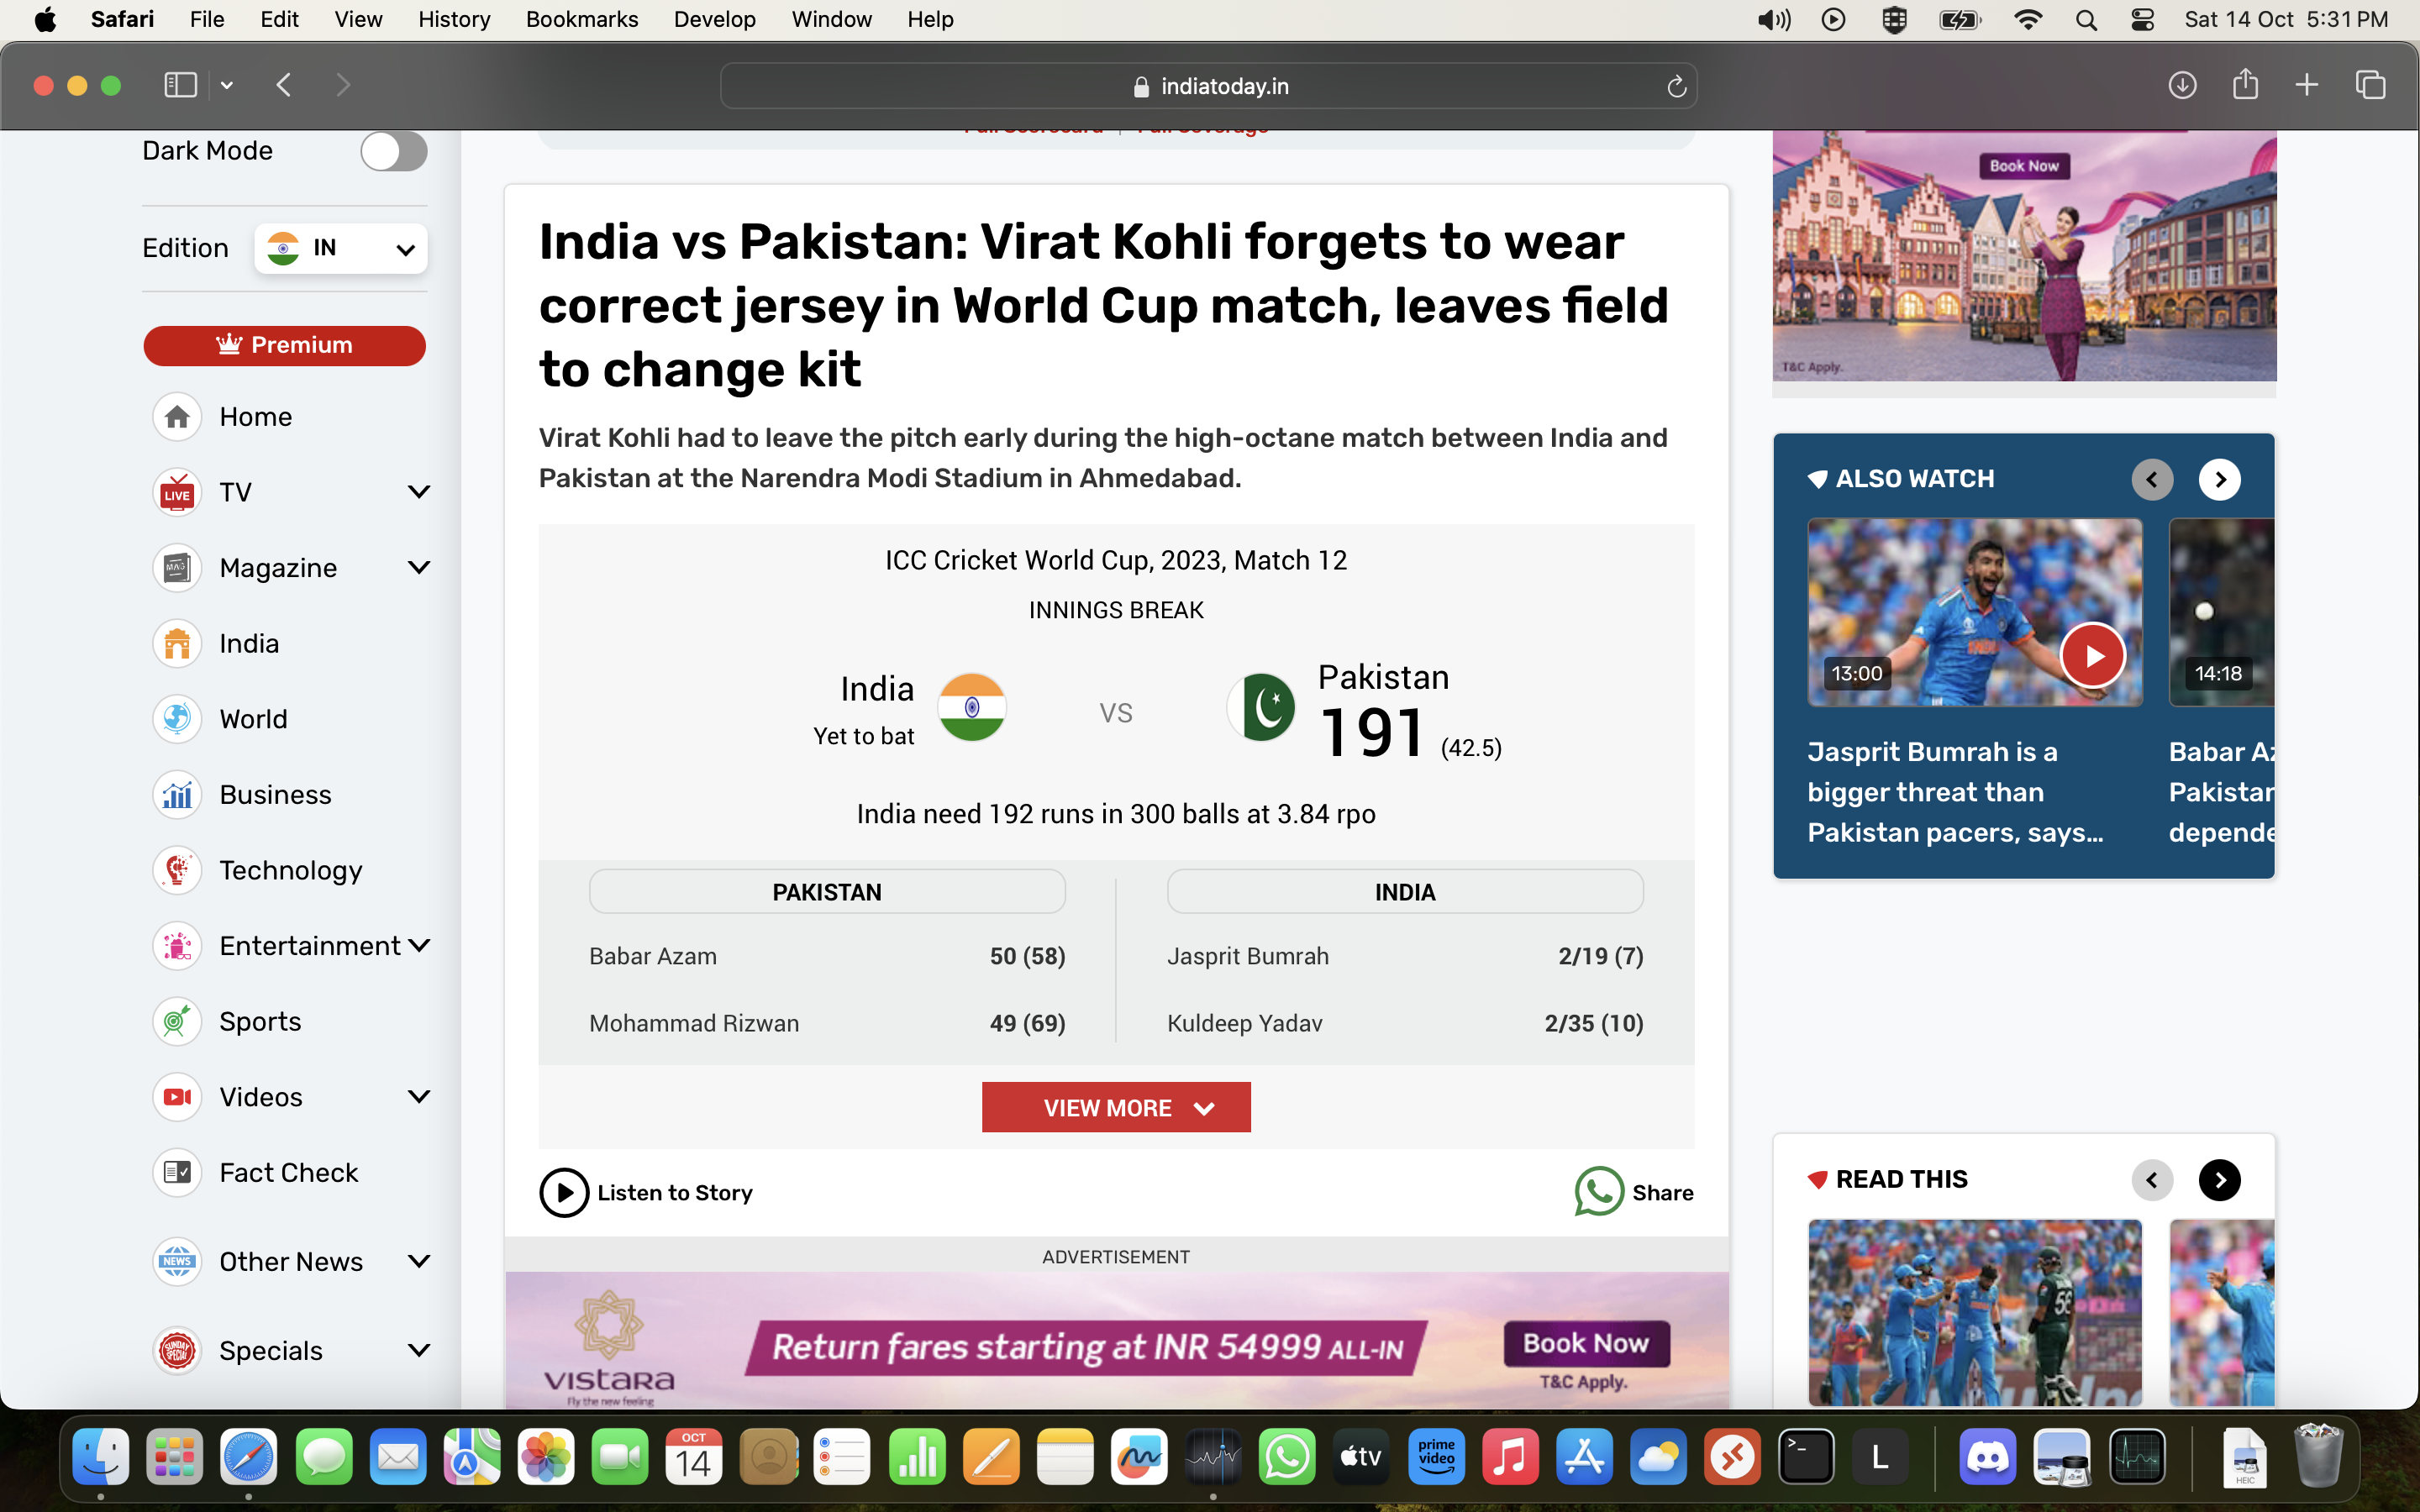Image: (504, 1275, 1725, 1406), (1774, 131, 2267, 380), (1810, 524, 2143, 709), (1814, 1239, 2133, 1399), (2160, 1214, 2274, 1392), (2181, 535, 2277, 693), (927, 662, 1019, 751), (1214, 662, 1303, 744)
Paragraph: (524, 181, 1688, 408), (521, 411, 1688, 496), (1798, 730, 2113, 864), (765, 1310, 1403, 1364), (854, 531, 1378, 591), (1310, 648, 1526, 761), (854, 793, 1399, 836), (2167, 730, 2274, 878), (1030, 1080, 1239, 1137), (981, 591, 1242, 634), (793, 676, 929, 758), (559, 928, 740, 984), (573, 1169, 768, 1218), (1803, 1148, 1976, 1200), (202, 1235, 371, 1286), (216, 1144, 378, 1197), (1159, 998, 1338, 1045), (1159, 935, 1345, 977), (577, 1002, 810, 1035), (206, 847, 375, 892), (213, 928, 411, 967), (549, 1364, 693, 1416), (1502, 1313, 1688, 1353), (202, 333, 382, 371), (779, 867, 916, 916), (120, 131, 287, 171), (120, 216, 244, 268), (1530, 998, 1664, 1045), (223, 1327, 340, 1381), (1622, 1158, 1714, 1218), (220, 549, 361, 587), (977, 998, 1084, 1049), (195, 613, 305, 662), (216, 686, 308, 744), (220, 772, 350, 812), (1551, 928, 1660, 974), (202, 460, 277, 524), (216, 1002, 308, 1049), (209, 1080, 322, 1118), (981, 939, 1084, 974), (1345, 874, 1458, 906), (291, 216, 357, 268), (209, 401, 305, 429)
